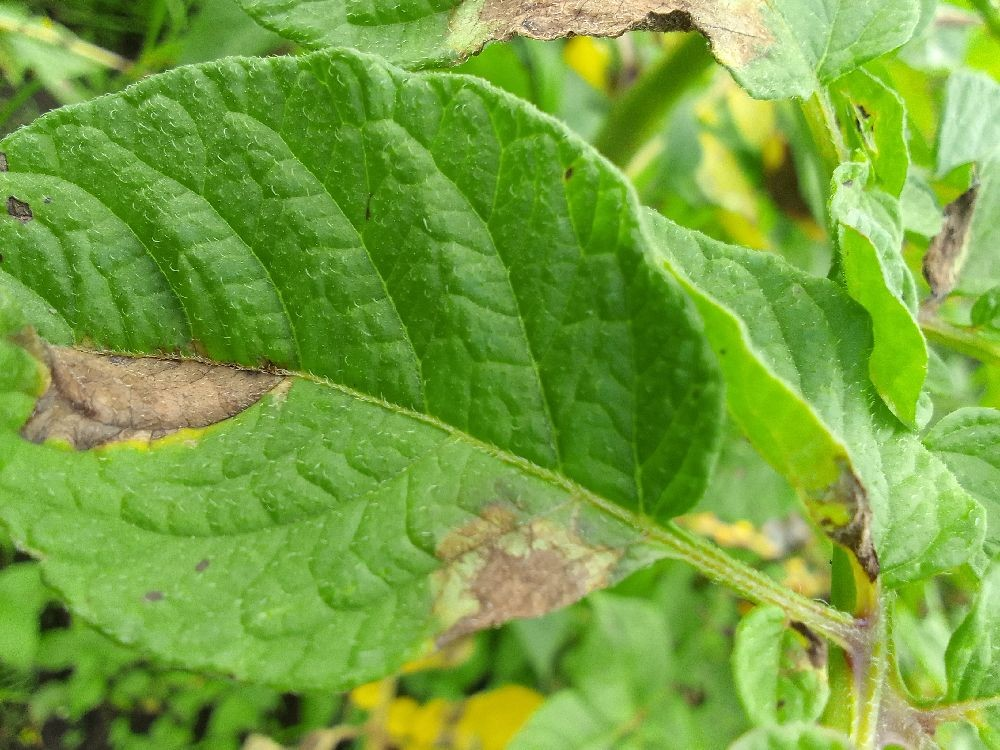late_blight: (7, 314, 308, 466), (417, 484, 631, 682), (346, 663, 550, 750), (0, 678, 189, 750)
